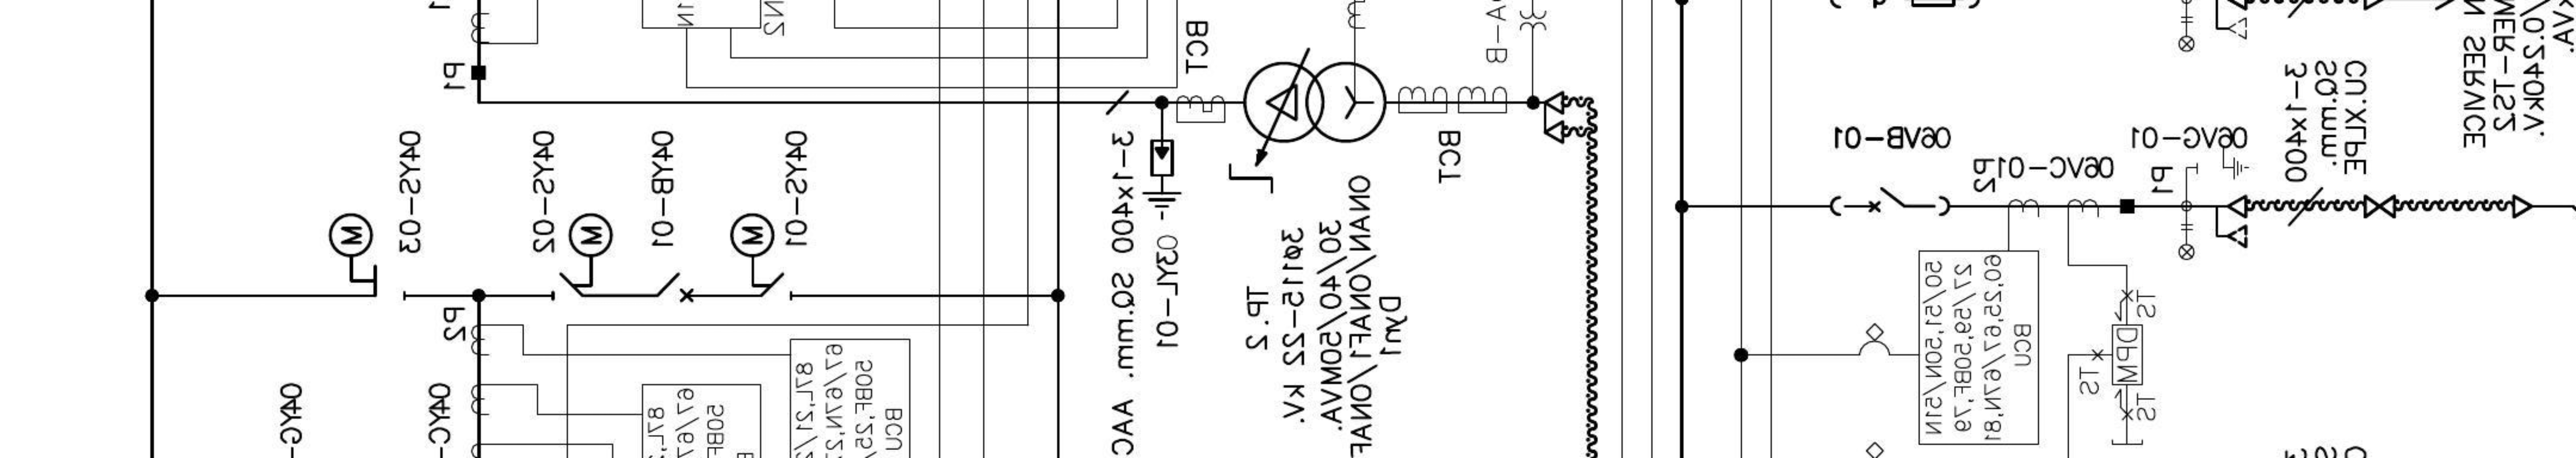11522_tx_dyn1: (1242, 61, 1388, 144)
115_1way_ds_w_motor: (327, 212, 407, 302), (729, 212, 794, 300), (550, 212, 614, 300)
115_breaker: (655, 271, 695, 304)
115_la: (1142, 138, 1183, 220)
22_breaker: (1829, 185, 1952, 218)
22_gs: (2195, 148, 2251, 181)
22_ll: (2177, 15, 2195, 53), (2177, 223, 2195, 261)
DPM: (2111, 323, 2144, 386)
terminator_double: (1543, 90, 1566, 146)
terminator_single: (2510, 194, 2533, 220)
terminator_splicing_kits: (2364, 194, 2397, 218)
terminator_w_future: (2215, 192, 2249, 250)
